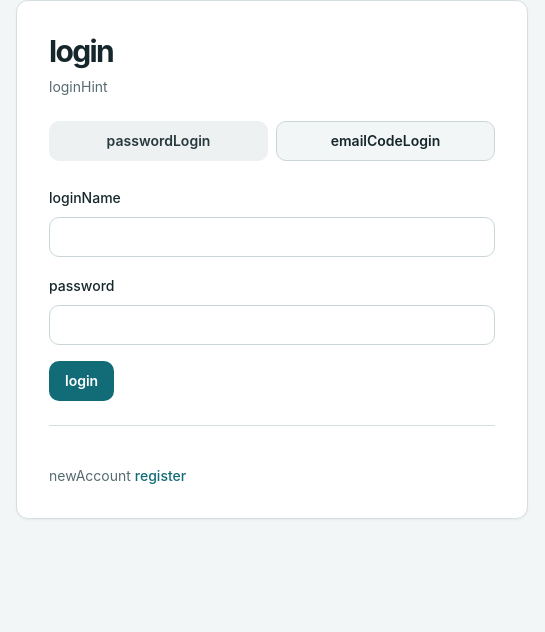
Scenario: clears a requested code when the Gmail address changes
The image size is (545, 632).
Click the button "emailCodeLogin" at (386, 141), box [276, 121, 495, 161]
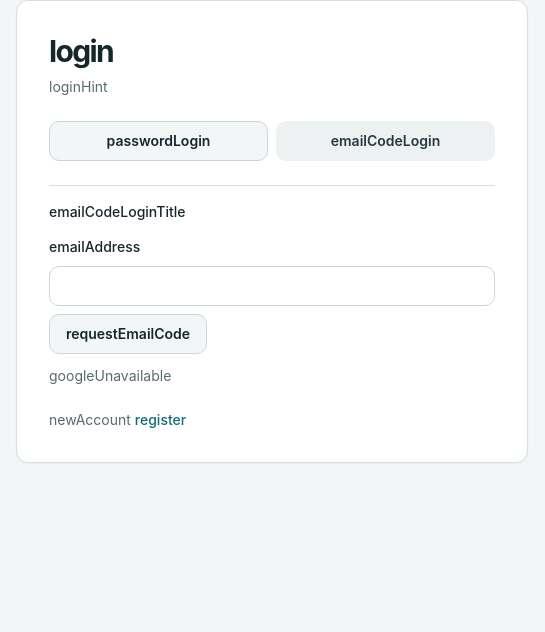
Type "first@gmail.com" into the field labelled "emailAddress" at (272, 286), box [49, 266, 495, 306]
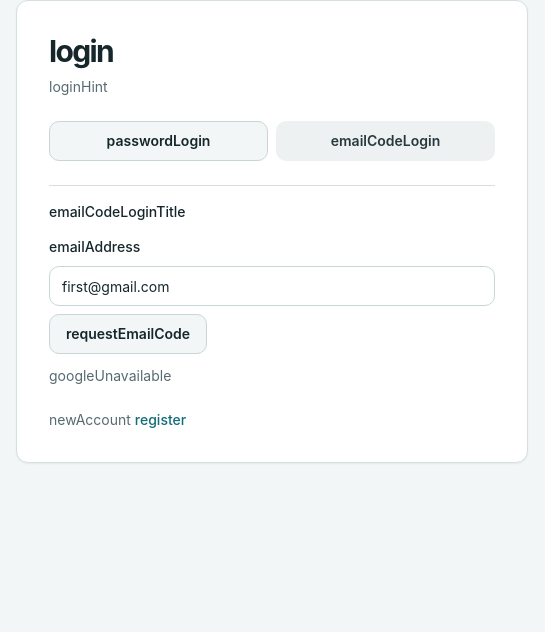
Click the button "requestEmailCode" at (128, 334), box [49, 314, 207, 354]
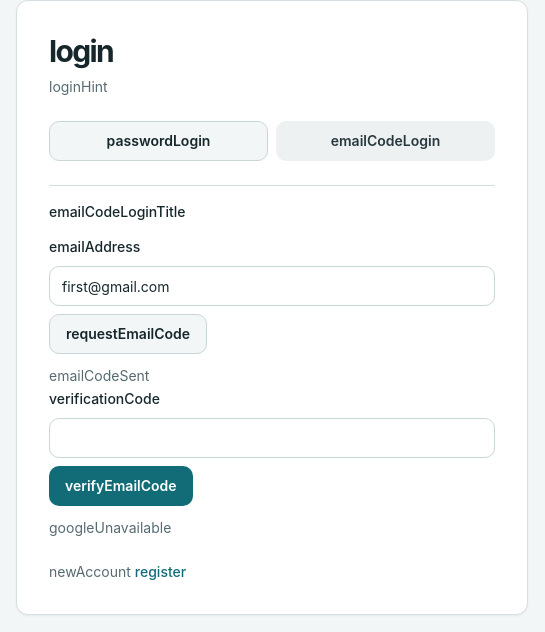
Check: the field labelled "verificationCode" is shown, box [49, 418, 495, 458]
Replace the text in the field labelled "emailAddress" with "second@gmail.com" at (272, 286), box [49, 266, 495, 306]
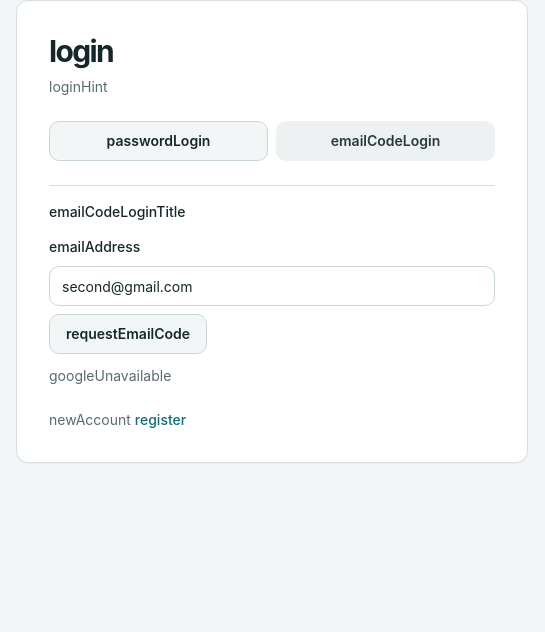
Check: the label labelled "verificationCode" is gone
